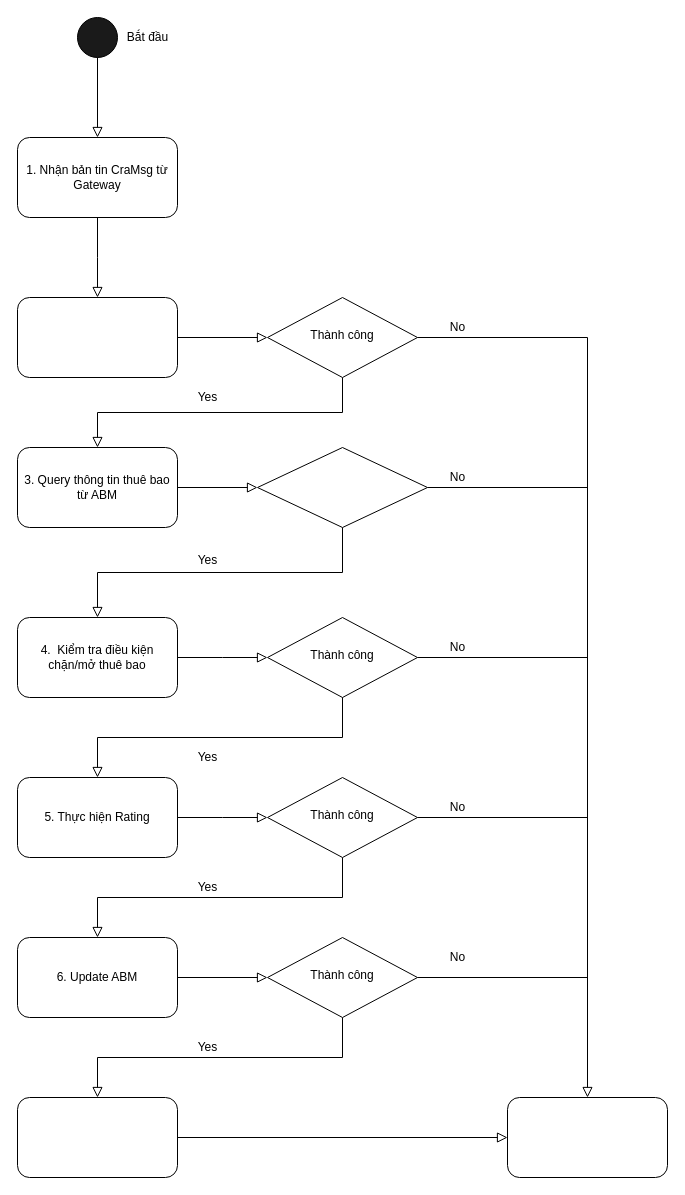
The diagram is 685 pixels wide and 1195 high, and some of its shapes have lost their labels. Here are the shapes that lost their labels. From the top down, the box of each, then its label:
(16, 296, 178, 378): 2. Validate các tham số characteristic
(256, 446, 428, 528): Tồn tại thuê bao
(16, 1096, 178, 1178): 7. Generate CDR và trigger
(506, 1096, 668, 1178): 8. Gửi bản tin CraResponse tới Gateway
